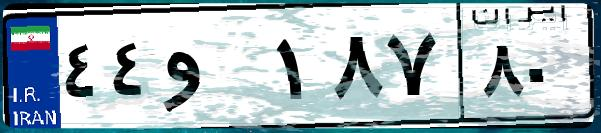0: (525, 38, 570, 115)
1: (270, 28, 330, 110)
4: (57, 26, 110, 100), (110, 28, 158, 98)
7: (385, 28, 445, 110)
8: (330, 28, 385, 110), (475, 38, 525, 113)
و: (158, 20, 270, 120)
